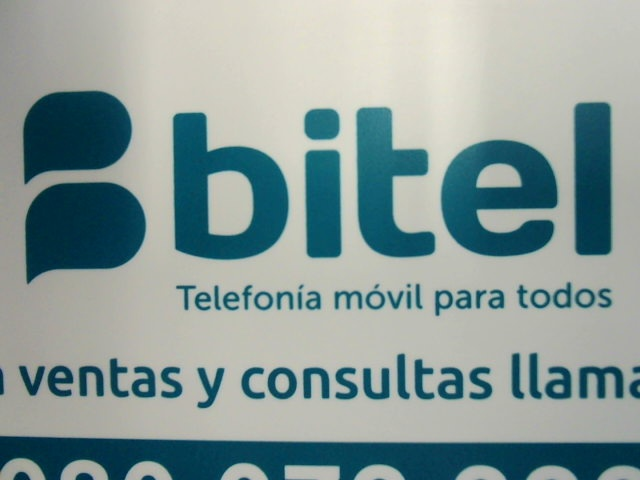BE_bitel: (12, 88, 618, 289)
